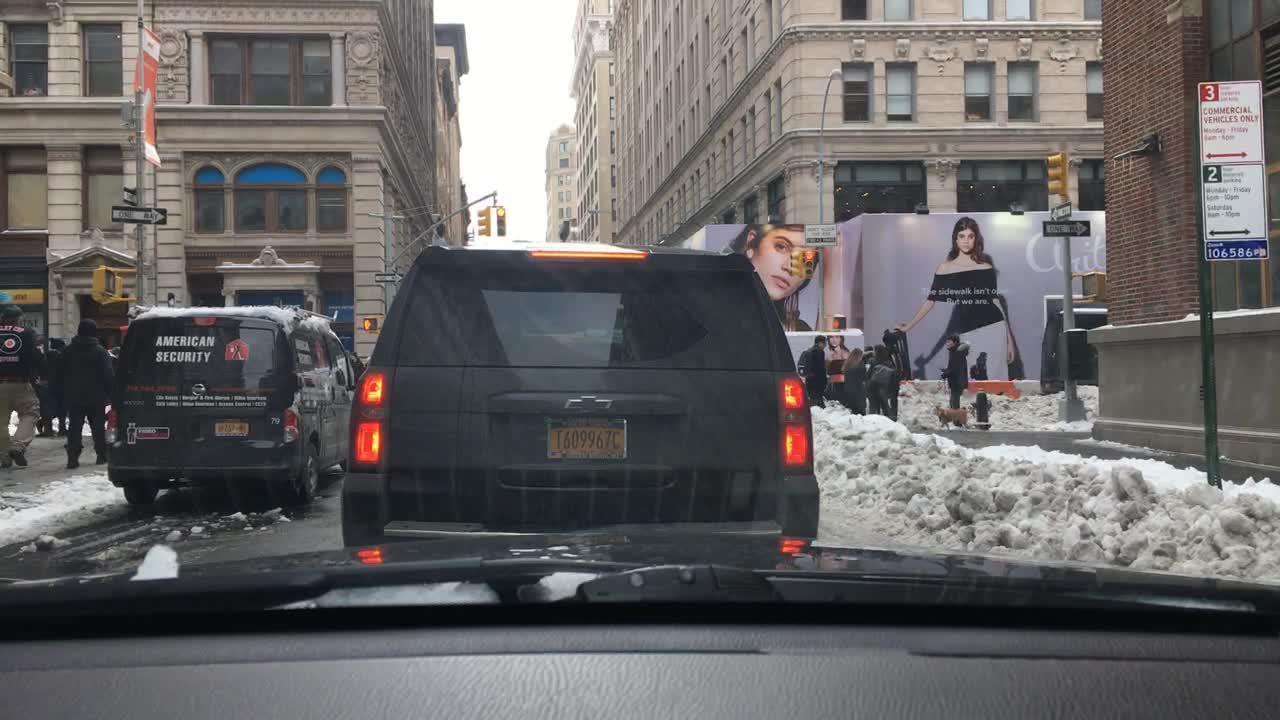Nissan: (187, 380, 212, 399)
chevrolet: (551, 388, 627, 416)
